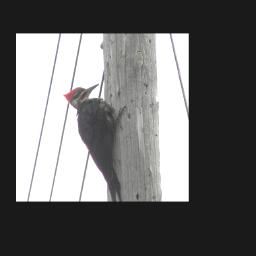Woodpecker: (62, 81, 127, 201)
